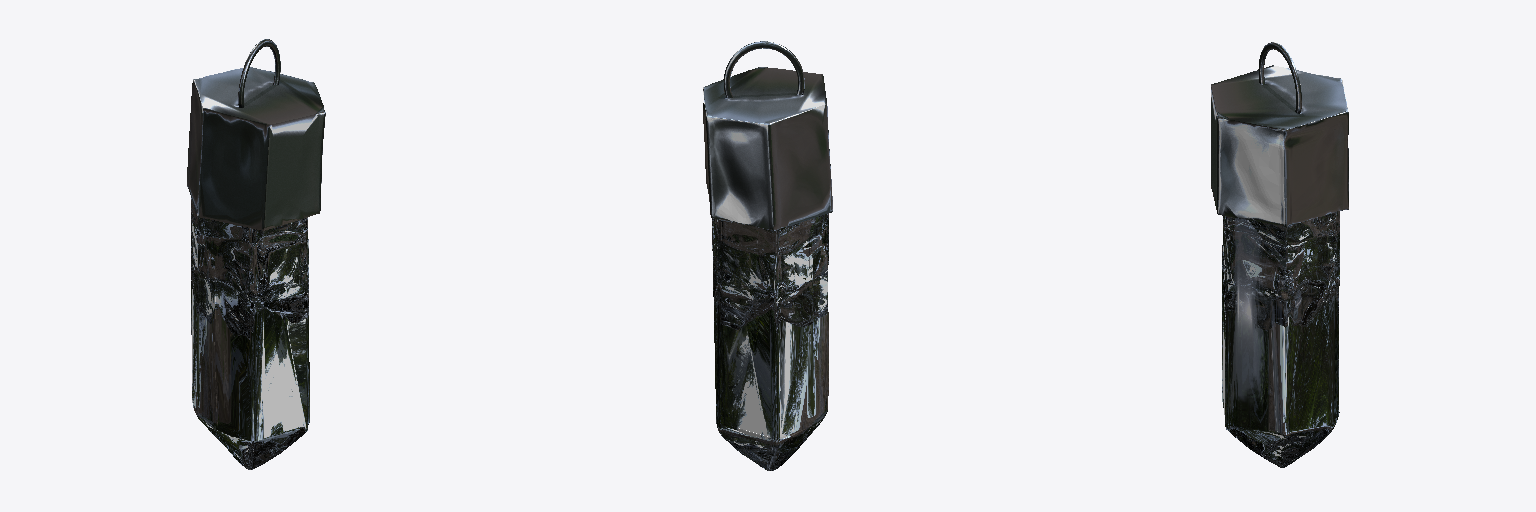
3 renders of one model, left to right at view 1: azimuth 30°, elevation 25°; view 2: azimuth 150°, elevation 25°; view 3: azimuth 270°, elevation 25°, orthographic.
Visible parts, largest first — view 1: Cylinder, Cylinder.001; view 2: Cylinder, Cylinder.001; view 3: Cylinder, Cylinder.001.
Part boxes in pixels (bbox=[...]): Cylinder: bbox=[191, 198, 309, 469]; Cylinder.001: bbox=[187, 39, 325, 230]; Cylinder: bbox=[712, 213, 828, 470]; Cylinder.001: bbox=[703, 41, 832, 230]; Cylinder: bbox=[1222, 211, 1339, 467]; Cylinder.001: bbox=[1211, 42, 1348, 226].
Size of the model in its own units: 0.1868 by 0.6154 by 0.1809.
2 materials, 2 textured.